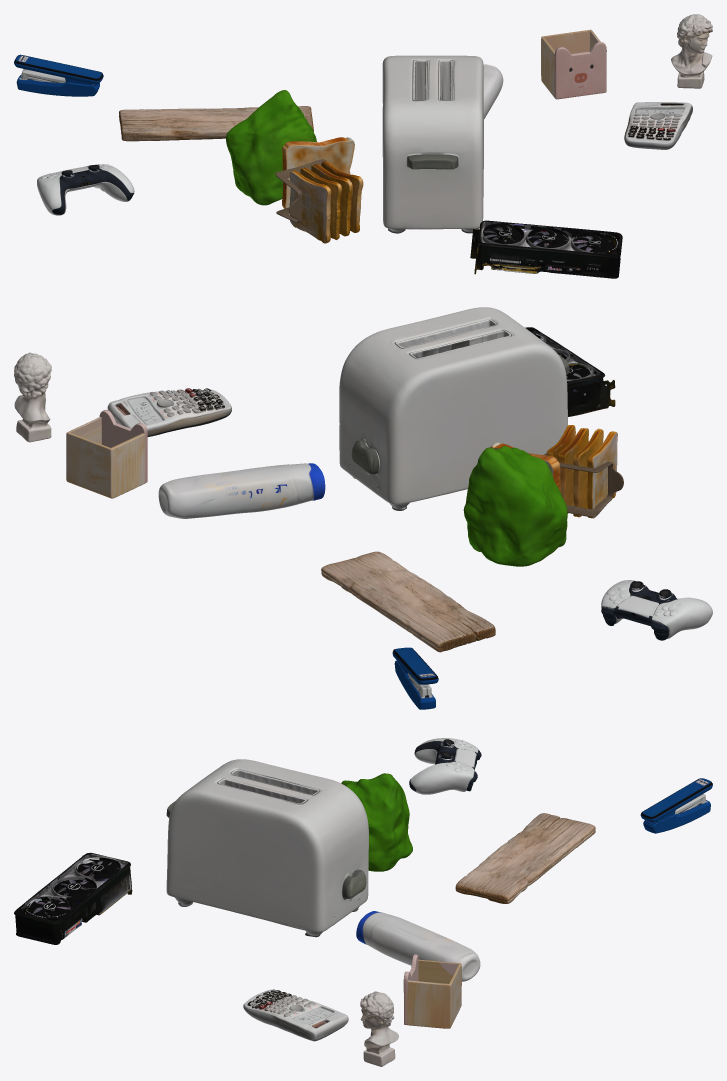
File: simfoundry.glb
3 renders of one model, top to bottom at view 1: azimuth 30°, elevation 25°; view 2: azimuth 150°, elevation 25°; view 3: azimuth 270°, elevation 25°, orthographic. The views are drawn at different scales.
Visible parts, largest first — view 1: white_toaster_drcidd_link_iter_1_canonical_mesh_obj, black_graphics_card_kdiwxd_link_iter_0_canonical_mesh_obj, green_block_wimfnv_link_iter_6_canonical_mesh_obj, toast_rack_with_bread_exatzn_link_iter_3_canonical_mesh_obj, white_tissue_pack_box_rnbopb_link_iter_10_canonical_mesh_obj, pink_pig_pen_holder_csywyf_link_iter_8_canonical_mesh_obj, white_game_controller_qrxhzb_link_iter_7_canonical_mesh_obj, black_calculator_pnqkgu_link_iter_4_canonical_mesh_obj, blue_stapler_jgocdv_link_iter_11_canonical_mesh_obj, white_bust_statue_vxjhqr_link_iter_9_canonical_mesh_obj, toast_slices_in_rack_bzbnbf_link_iter_2_canonical_mesh_obj, white_lotion_bottle_sjbydb_link_iter_5_canonical_mesh_obj; view 2: white_toaster_drcidd_link_iter_1_canonical_mesh_obj, green_block_wimfnv_link_iter_6_canonical_mesh_obj, white_tissue_pack_box_rnbopb_link_iter_10_canonical_mesh_obj, white_lotion_bottle_sjbydb_link_iter_5_canonical_mesh_obj, pink_pig_pen_holder_csywyf_link_iter_8_canonical_mesh_obj, toast_rack_with_bread_exatzn_link_iter_3_canonical_mesh_obj, black_calculator_pnqkgu_link_iter_4_canonical_mesh_obj, white_game_controller_qrxhzb_link_iter_7_canonical_mesh_obj, white_bust_statue_vxjhqr_link_iter_9_canonical_mesh_obj, black_graphics_card_kdiwxd_link_iter_0_canonical_mesh_obj, blue_stapler_jgocdv_link_iter_11_canonical_mesh_obj; view 3: white_toaster_drcidd_link_iter_1_canonical_mesh_obj, black_graphics_card_kdiwxd_link_iter_0_canonical_mesh_obj, white_tissue_pack_box_rnbopb_link_iter_10_canonical_mesh_obj, white_lotion_bottle_sjbydb_link_iter_5_canonical_mesh_obj, green_block_wimfnv_link_iter_6_canonical_mesh_obj, pink_pig_pen_holder_csywyf_link_iter_8_canonical_mesh_obj, black_calculator_pnqkgu_link_iter_4_canonical_mesh_obj, white_game_controller_qrxhzb_link_iter_7_canonical_mesh_obj, blue_stapler_jgocdv_link_iter_11_canonical_mesh_obj, white_bust_statue_vxjhqr_link_iter_9_canonical_mesh_obj.
Boxes of the visible parts, x1,y1,x2,y2 form: white_toaster_drcidd_link_iter_1_canonical_mesh_obj: [382, 55, 483, 233]; black_graphics_card_kdiwxd_link_iter_0_canonical_mesh_obj: [470, 220, 622, 278]; green_block_wimfnv_link_iter_6_canonical_mesh_obj: [226, 90, 316, 205]; toast_rack_with_bread_exatzn_link_iter_3_canonical_mesh_obj: [275, 159, 363, 243]; white_tissue_pack_box_rnbopb_link_iter_10_canonical_mesh_obj: [119, 106, 313, 141]; pink_pig_pen_holder_csywyf_link_iter_8_canonical_mesh_obj: [541, 29, 606, 99]; white_game_controller_qrxhzb_link_iter_7_canonical_mesh_obj: [37, 164, 134, 215]; black_calculator_pnqkgu_link_iter_4_canonical_mesh_obj: [624, 102, 692, 149]; blue_stapler_jgocdv_link_iter_11_canonical_mesh_obj: [14, 54, 103, 96]; white_bust_statue_vxjhqr_link_iter_9_canonical_mesh_obj: [671, 14, 712, 88]; toast_slices_in_rack_bzbnbf_link_iter_2_canonical_mesh_obj: [282, 137, 354, 208]; white_lotion_bottle_sjbydb_link_iter_5_canonical_mesh_obj: [483, 64, 503, 118]; white_toaster_drcidd_link_iter_1_canonical_mesh_obj: [339, 307, 569, 510]; green_block_wimfnv_link_iter_6_canonical_mesh_obj: [463, 446, 567, 566]; white_tissue_pack_box_rnbopb_link_iter_10_canonical_mesh_obj: [321, 551, 495, 652]; white_lotion_bottle_sjbydb_link_iter_5_canonical_mesh_obj: [158, 463, 325, 518]; pink_pig_pen_holder_csywyf_link_iter_8_canonical_mesh_obj: [66, 409, 147, 498]; toast_rack_with_bread_exatzn_link_iter_3_canonical_mesh_obj: [543, 425, 623, 518]; black_calculator_pnqkgu_link_iter_4_canonical_mesh_obj: [107, 388, 231, 436]; white_game_controller_qrxhzb_link_iter_7_canonical_mesh_obj: [601, 580, 712, 640]; white_bust_statue_vxjhqr_link_iter_9_canonical_mesh_obj: [14, 352, 51, 442]; black_graphics_card_kdiwxd_link_iter_0_canonical_mesh_obj: [525, 327, 615, 416]; blue_stapler_jgocdv_link_iter_11_canonical_mesh_obj: [392, 647, 438, 709]; white_toaster_drcidd_link_iter_1_canonical_mesh_obj: [166, 759, 368, 937]; black_graphics_card_kdiwxd_link_iter_0_canonical_mesh_obj: [14, 852, 132, 944]; white_tissue_pack_box_rnbopb_link_iter_10_canonical_mesh_obj: [455, 813, 595, 903]; white_lotion_bottle_sjbydb_link_iter_5_canonical_mesh_obj: [356, 911, 480, 981]; green_block_wimfnv_link_iter_6_canonical_mesh_obj: [341, 773, 412, 871]; pink_pig_pen_holder_csywyf_link_iter_8_canonical_mesh_obj: [403, 954, 461, 1028]; black_calculator_pnqkgu_link_iter_4_canonical_mesh_obj: [243, 989, 348, 1041]; white_game_controller_qrxhzb_link_iter_7_canonical_mesh_obj: [409, 738, 481, 794]; blue_stapler_jgocdv_link_iter_11_canonical_mesh_obj: [640, 778, 712, 833]; white_bust_statue_vxjhqr_link_iter_9_canonical_mesh_obj: [360, 991, 398, 1066].
Size of what is drawn, in the model's own units: 1.01 by 0.1872 by 0.9572.
Materials: 12 (12 with a texture image).
